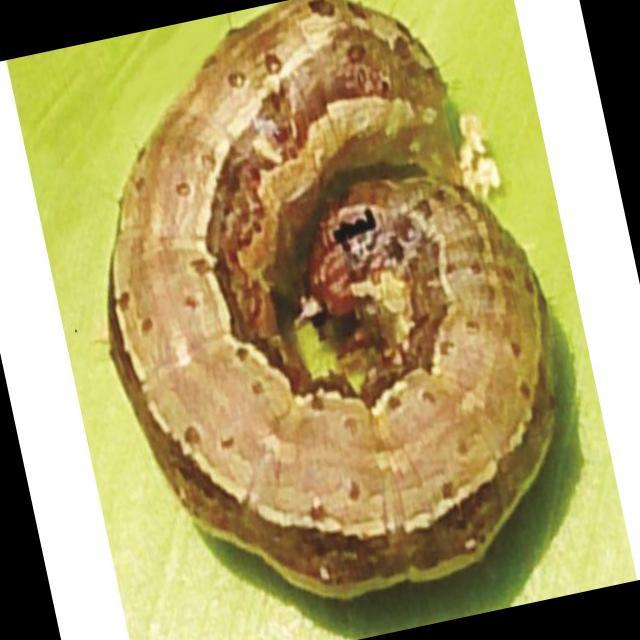Plaga: (40, 1, 620, 640)
